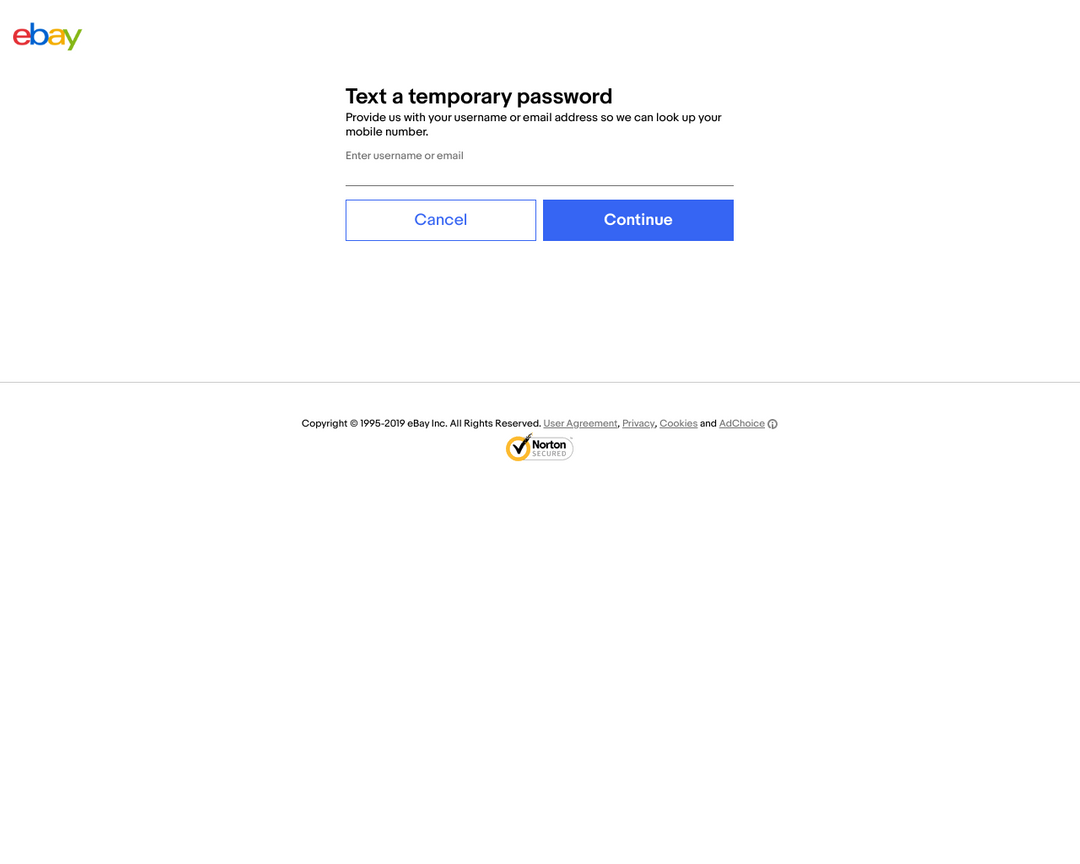Ebay: (10, 22, 84, 53)
